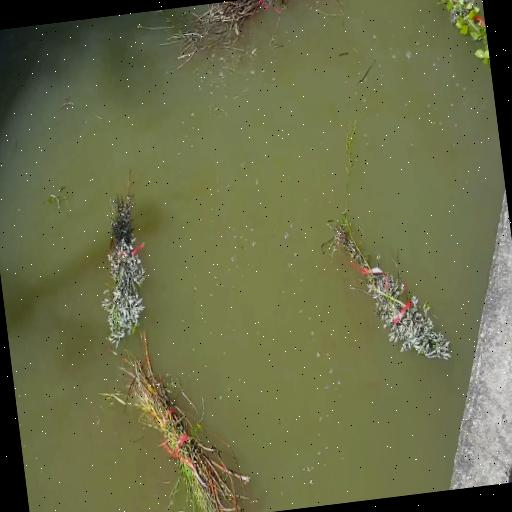twig: (322, 121, 450, 359), (102, 332, 250, 512), (102, 170, 145, 347), (164, 0, 274, 68), (431, 0, 490, 64), (110, 195, 133, 244)
